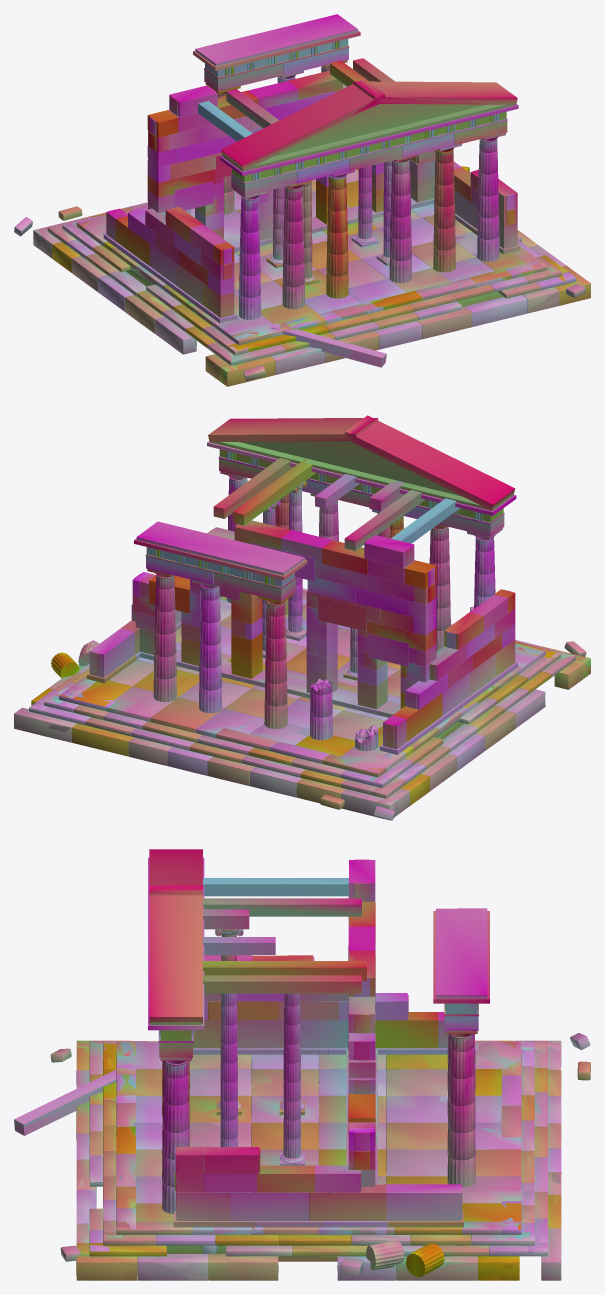
Rendered from propylon.glb.
The picture shows the model from 3 angles, top to bottom: view 1: azimuth 30°, elevation 25°; view 2: azimuth 150°, elevation 25°; view 3: azimuth 270°, elevation 25°; orthographic projection. The views are drawn at different scales.
Visible parts, largest first — view 1: Propylon, Propylon_lod; view 2: Propylon, Propylon_lod; view 3: Propylon, Propylon_lod.
Boxes of the visible parts, x1,y1,x2,y2 form: Propylon: (14, 18, 590, 386); Propylon_lod: (14, 14, 589, 386); Propylon: (14, 416, 590, 820); Propylon_lod: (14, 415, 590, 820); Propylon: (14, 849, 590, 1280); Propylon_lod: (14, 857, 590, 1280).
Bounding box in the file's own units: 34.17 × 18.72 × 34.76.
